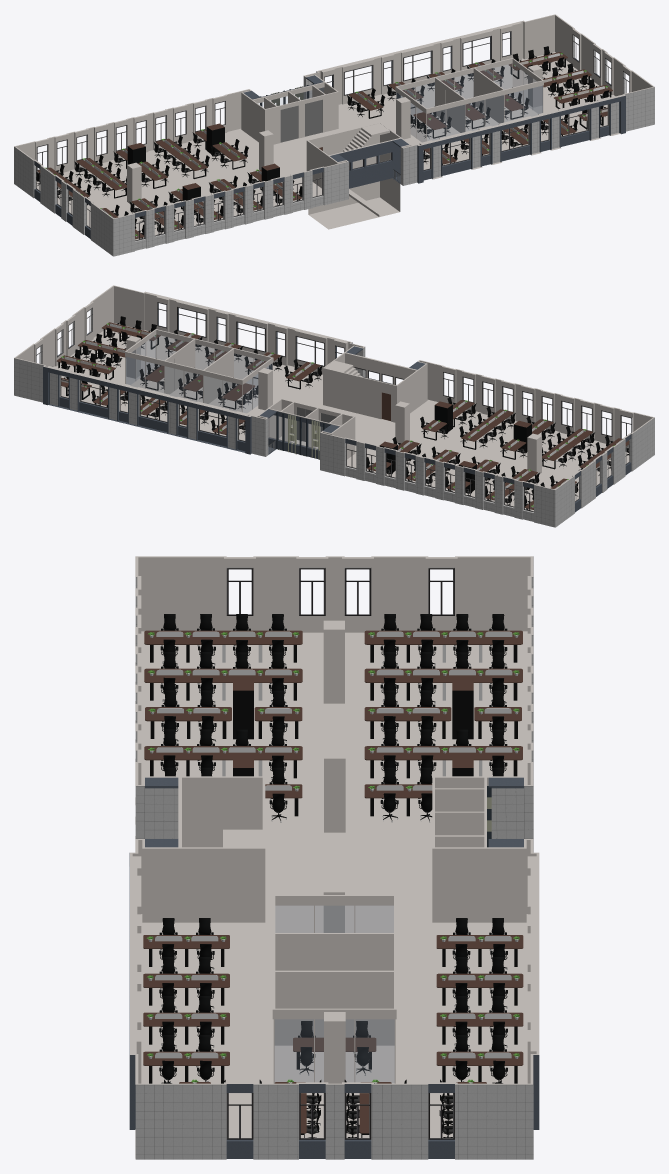
Rendered from floor.gltf.
3 views of the same model, one above another, from view 1: azimuth 30°, elevation 25°; view 2: azimuth 150°, elevation 25°; view 3: azimuth 270°, elevation 25° (orthographic). The views are drawn at different scales.
Parts seen in each view (by area): view 1: A7_Inside01_InWall_楼层外墙, Inside01_InWall_楼层外墙内部, A7_Inside01_InWall_地板地板, A7_Inside01_InWall_内墙, A7_Inside01_InGlass_会议室玻璃, A7_Inside01_InWall_会议室墙, A7_Inside01_InWall_楼梯, A7_Inside01_Items_Table_桌子.011, A7_Inside01_Items_Table_桌子.002, A7_Inside01_InDoor_门2, A7_Inside01_InDoor_门1, A7_Inside01_Items_Table_桌子.027 (+9 smaller); view 2: A7_Inside01_InWall_楼层外墙, Inside01_InWall_楼层外墙内部, A7_Inside01_InWall_地板地板, A7_Inside01_InWall_内墙, A7_Inside01_InGlass_会议室玻璃, A7_Inside01_InWall_会议室墙, A7_Inside01_Items_Table_桌子.012, A7_Inside01_Items_Table_桌子.014, A7_Inside01_Items_Table_桌子.026, A7_Inside01_Items_Table_桌子.028, A7_Inside01_Items_Cabinet柜子.002, A7_Inside01_Items_Table_桌子.027 (+4 smaller); view 3: A7_Inside01_InWall_地板地板, Inside01_InWall_楼层外墙内部, A7_Inside01_InWall_楼层外墙, A7_Inside01_InWall_内墙, A7_Inside01_InWall_会议室墙, A7_Inside01_InGlass_会议室玻璃, A7_Inside01_Items_Table_桌子.013, A7_Inside01_Items_Table_桌子.003, A7_Inside01_Items_Table_桌子.002, A7_Inside01_Items_Table_桌子.014, A7_Inside01_Items_Table_桌子.011, A7_Inside01_Items_Table_桌子.012 (+14 smaller).
Boxes of the visible parts, x1,y1,x2,y2 form: A7_Inside01_InWall_楼层外墙: [14, 28, 654, 256]; Inside01_InWall_楼层外墙内部: [14, 14, 654, 218]; A7_Inside01_InWall_地板地板: [36, 52, 620, 240]; A7_Inside01_InWall_内墙: [127, 65, 542, 229]; A7_Inside01_InGlass_会议室玻璃: [396, 64, 542, 141]; A7_Inside01_InWall_会议室墙: [395, 58, 543, 141]; A7_Inside01_InWall_楼梯: [343, 123, 389, 216]; A7_Inside01_Items_Table_桌子.011: [155, 138, 207, 178]; A7_Inside01_Items_Table_桌子.002: [76, 158, 126, 198]; A7_Inside01_InDoor_门2: [280, 106, 298, 142]; A7_Inside01_InDoor_门1: [305, 100, 322, 136]; A7_Inside01_Items_Table_桌子.027: [554, 85, 612, 108]; A7_Inside01_InWall_楼层外墙: [14, 302, 654, 527]; Inside01_InWall_楼层外墙内部: [14, 285, 654, 489]; A7_Inside01_InWall_地板地板: [54, 323, 629, 511]; A7_Inside01_InWall_内墙: [126, 336, 541, 475]; A7_Inside01_InGlass_会议室玻璃: [126, 335, 272, 412]; A7_Inside01_InWall_会议室墙: [125, 329, 273, 412]; A7_Inside01_Items_Table_桌子.012: [461, 409, 513, 449]; A7_Inside01_Items_Table_桌子.014: [542, 428, 592, 469]; A7_Inside01_Items_Table_桌子.026: [56, 355, 115, 379]; A7_Inside01_Items_Table_桌子.028: [102, 322, 160, 349]; A7_Inside01_Items_Cabinet柜子.002: [434, 401, 452, 431]; A7_Inside01_Items_Table_桌子.027: [78, 340, 126, 363]; A7_Inside01_InWall_地板地板: [135, 631, 527, 1158]; Inside01_InWall_楼层外墙内部: [130, 556, 539, 1084]; A7_Inside01_InWall_楼层外墙: [129, 556, 539, 1159]; A7_Inside01_InWall_内墙: [181, 620, 484, 1083]; A7_Inside01_InWall_会议室墙: [272, 895, 396, 1083]; A7_Inside01_InGlass_会议室玻璃: [275, 906, 394, 1082]; A7_Inside01_Items_Table_桌子.013: [144, 630, 302, 662]; A7_Inside01_Items_Table_桌子.003: [364, 630, 522, 662]; A7_Inside01_Items_Table_桌子.002: [364, 668, 522, 700]; A7_Inside01_Items_Table_桌子.014: [144, 668, 302, 700]; A7_Inside01_Items_Table_桌子.011: [364, 746, 522, 778]; A7_Inside01_Items_Table_桌子.012: [144, 746, 302, 778].
Size of what is drawn, in the model's own units: 14.54 by 1.91 by 4.76.
28 materials, 8 textured.
